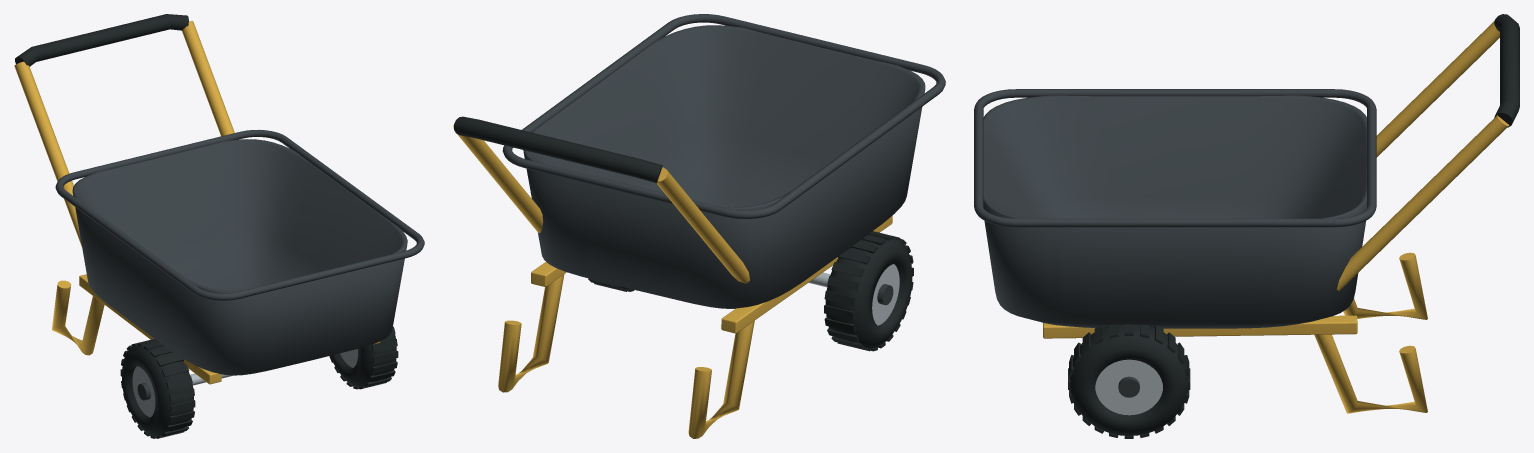
Rendered from garage-yard-cart.glb.
The picture shows the model from 3 angles, left to right: view 1: azimuth 30°, elevation 25°; view 2: azimuth 150°, elevation 25°; view 3: azimuth 270°, elevation 25°; orthographic projection. The views are drawn at different scales.
Visible parts, largest first — view 1: garage-yard-cart authored assembly; view 2: garage-yard-cart authored assembly; view 3: garage-yard-cart authored assembly.
Boxes of the visible parts, x1,y1,x2,y2 form: garage-yard-cart authored assembly: [14, 14, 424, 438]; garage-yard-cart authored assembly: [453, 14, 945, 438]; garage-yard-cart authored assembly: [974, 14, 1519, 438].
Size of the model in its own units: 0.721 by 0.76 by 1.2.
